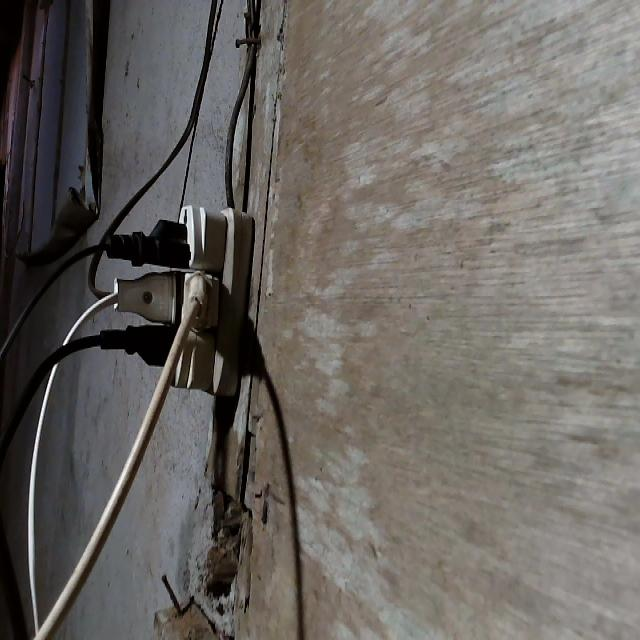-: (102, 198, 255, 402)
